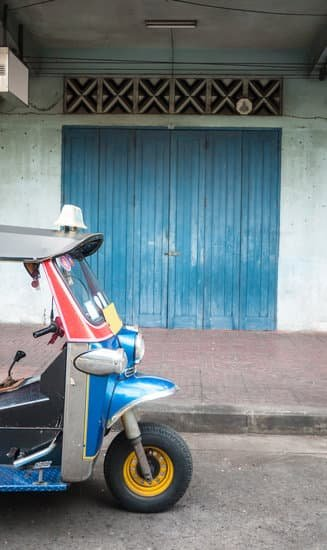threewheel: (1, 203, 193, 514)
